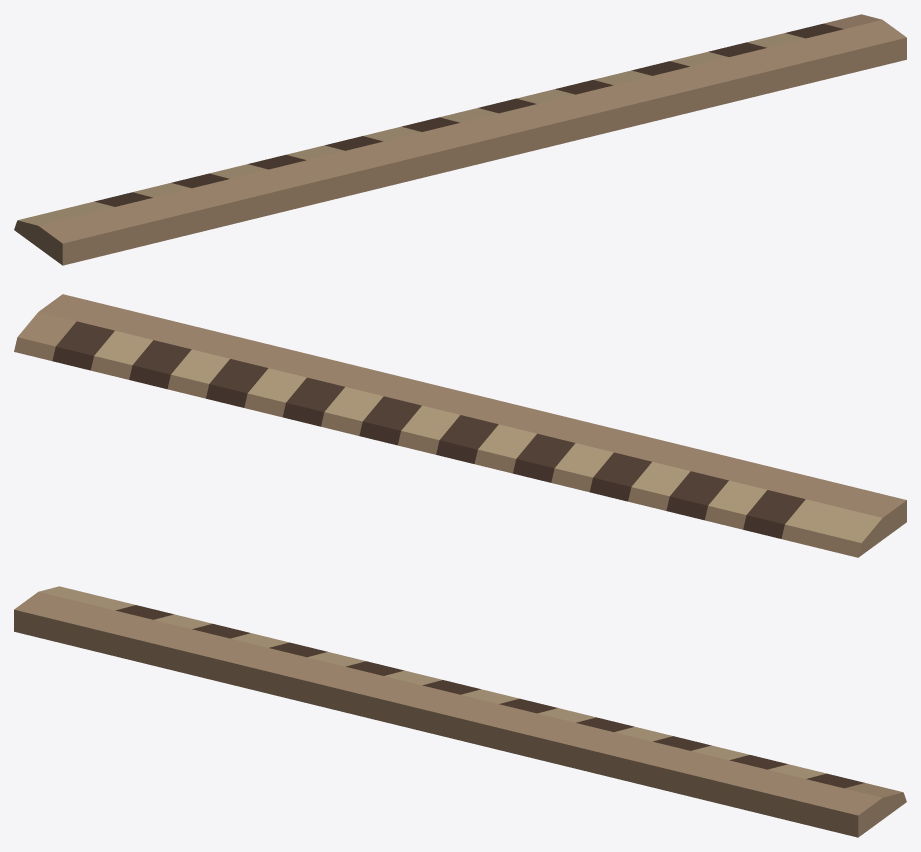
Rendered from ruler.fbx.
3 renders of one model, top to bottom at view 1: azimuth 30°, elevation 25°; view 2: azimuth 150°, elevation 25°; view 3: azimuth 330°, elevation 25°, orthographic.
Parts seen in each view (by area): view 1: ruler; view 2: ruler; view 3: ruler.
Part boxes in pixels (box(x1,y1,x2,y2)): ruler: box(14, 14, 906, 265); ruler: box(14, 294, 906, 557); ruler: box(14, 586, 906, 837).
Size of the model in its own units: 125 by 3.12 by 12.5.
1 material, 1 textured.
